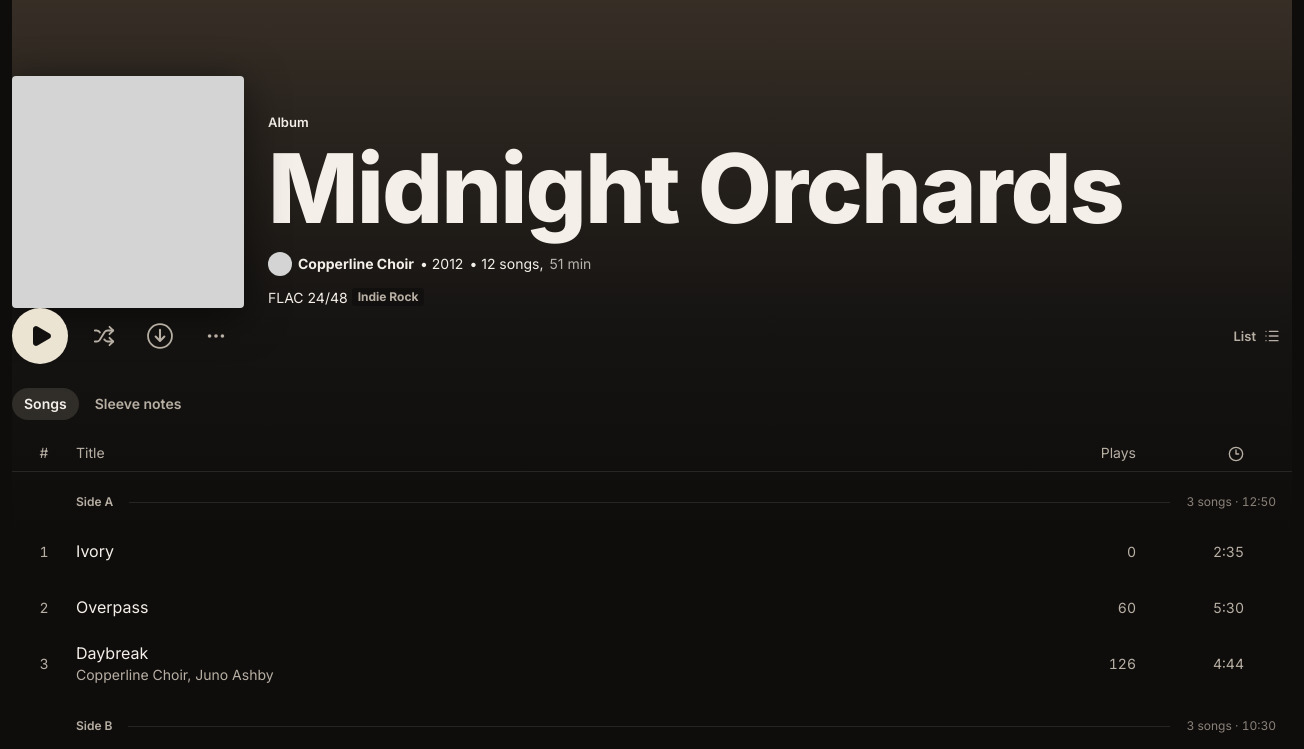
Test: the Sleeve notes tab › asks again when the core says lookups finished
Click the tab "Sleeve notes". click: (138, 404)
box: top-left (83, 388), bottom-right (193, 420)
(page scrolled)
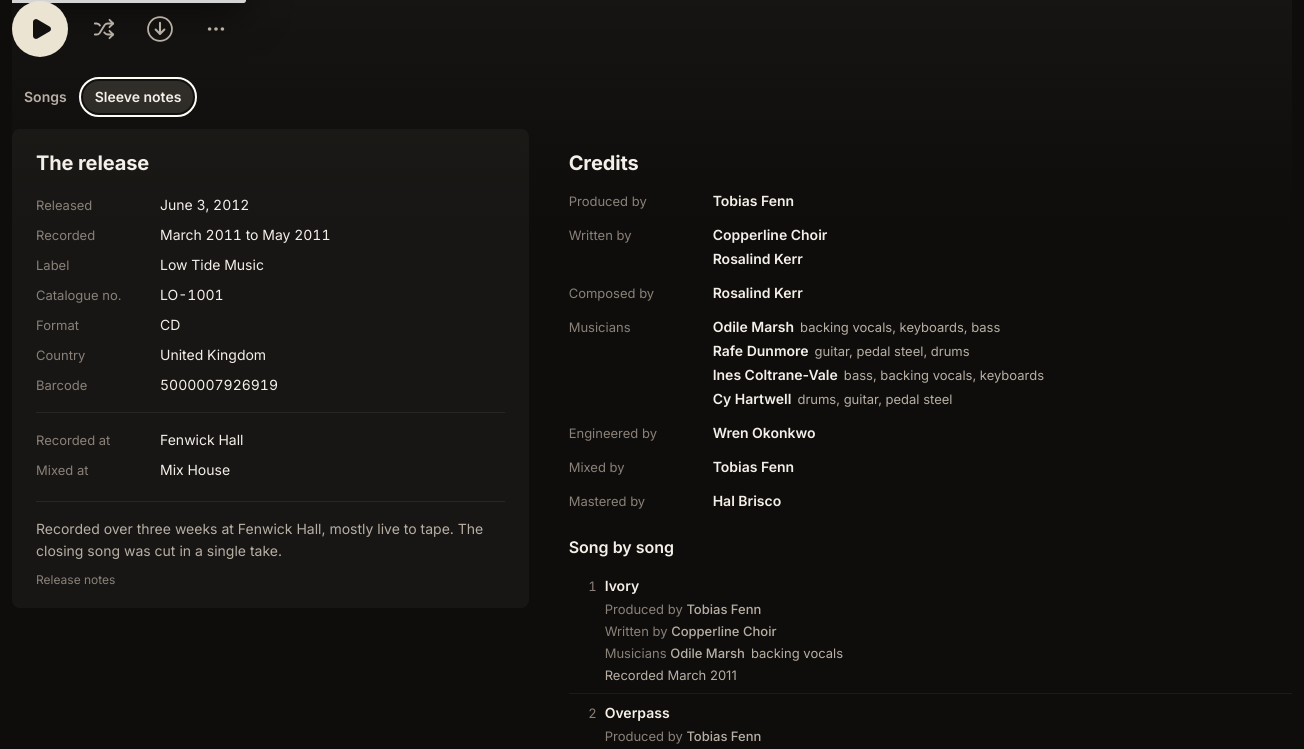
Result: the element "The release" is shown at top-left (12, 129), bottom-right (529, 608)
